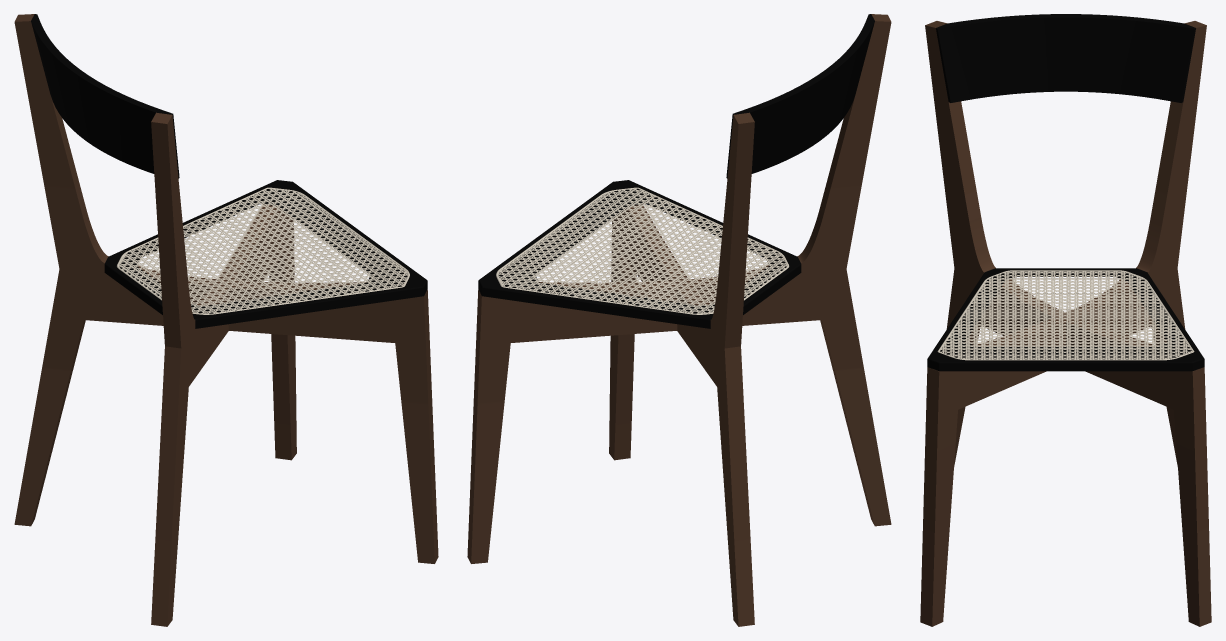
The model's file is asset.glb.
3 views of the same model, side by side, from view 1: azimuth 30°, elevation 25°; view 2: azimuth 150°, elevation 25°; view 3: azimuth 270°, elevation 25° (orthographic). The views are drawn at different scales.
Parts seen in each view (by area): view 1: GH_Obj (×5); view 2: GH_Obj (×5); view 3: GH_Obj (×7).
Part boxes in pixels (<box>): GH_Obj (×5): <box>14,14,438,626</box>; GH_Obj (×5): <box>467,14,891,626</box>; GH_Obj (×7): <box>920,14,1211,626</box>.
Size of the model in its own units: 497 by 814 by 450.
Materials: 3 (1 with a texture image).
